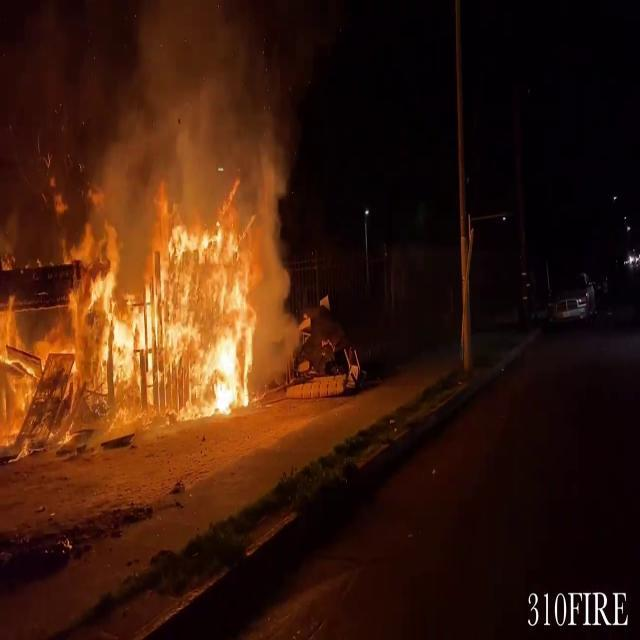Fire: (0, 148, 275, 434)
Smoke: (79, 0, 312, 200)
